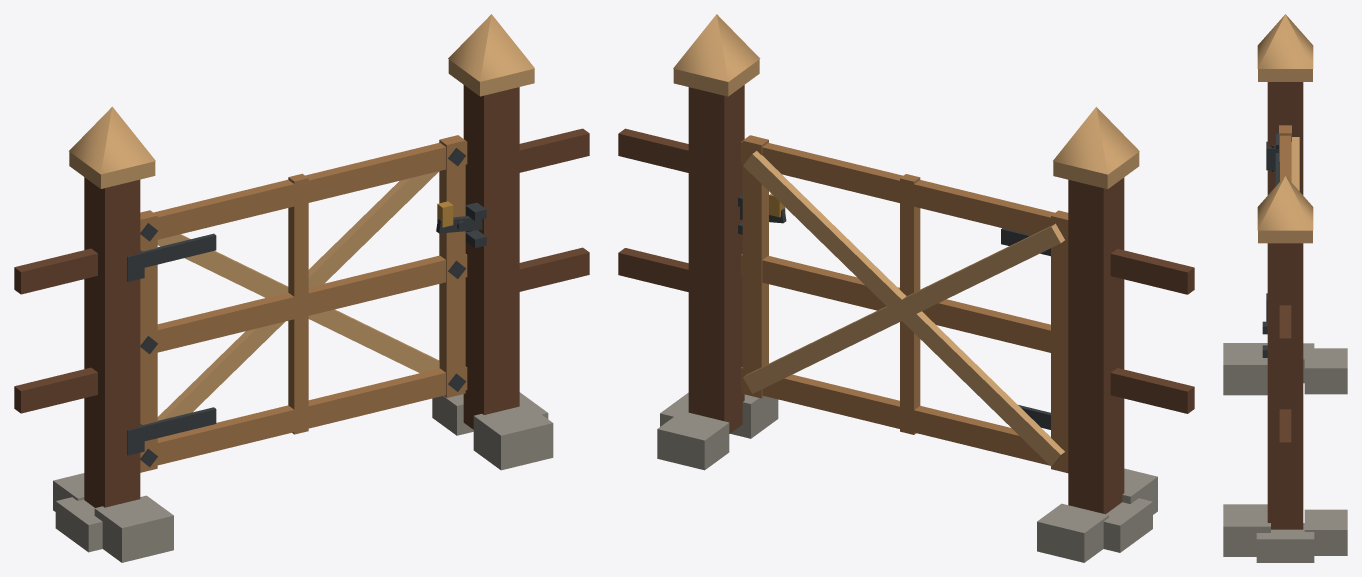
The model's file is fence-gate.m1.glb.
3 views of the same model, side by side, from view 1: azimuth 30°, elevation 25°; view 2: azimuth 150°, elevation 25°; view 3: azimuth 270°, elevation 25° (orthographic). The views are drawn at different scales.
Visible parts, largest first — view 1: gate_frame, post_timbers, post_base_stones, gate_x_braces, fence_stub_rails, post_caps, gate_hinge_straps, gate_bolts, post_hinge_pintles; view 2: post_timbers, gate_frame, gate_x_braces, post_base_stones, fence_stub_rails, post_caps, gate_hinge_straps; view 3: post_timbers, post_base_stones, post_caps, fence_stub_rails, gate_frame, gate_x_braces, post_hinge_pintles.
Part boxes in pixels (box(x1,y1,x2,y2)): gate_frame: box(140, 135, 467, 472); post_timbers: box(84, 85, 519, 507); post_base_stones: box(53, 392, 553, 562); gate_x_braces: box(157, 171, 439, 420); fence_stub_rails: box(14, 128, 589, 413); post_caps: box(69, 14, 534, 188); gate_hinge_straps: box(143, 233, 216, 441); gate_bolts: box(140, 148, 465, 466); post_hinge_pintles: box(127, 250, 144, 455); post_timbers: box(688, 85, 1124, 514); gate_frame: box(741, 135, 1068, 473); gate_x_braces: box(743, 151, 1064, 466); post_base_stones: box(657, 392, 1157, 562); fence_stub_rails: box(618, 128, 1194, 413); post_caps: box(673, 14, 1139, 189); gate_hinge_straps: box(1001, 228, 1050, 429); post_timbers: box(1267, 82, 1303, 529); post_base_stones: box(1223, 343, 1347, 562); post_caps: box(1257, 14, 1313, 243); fence_stub_rails: box(1279, 305, 1291, 461); gate_frame: box(1279, 125, 1291, 181); gate_x_braces: box(1291, 137, 1299, 190); post_hinge_pintles: box(1266, 141, 1278, 321).
Size of the model in its own units: 2.4 by 1.71 by 0.52.
